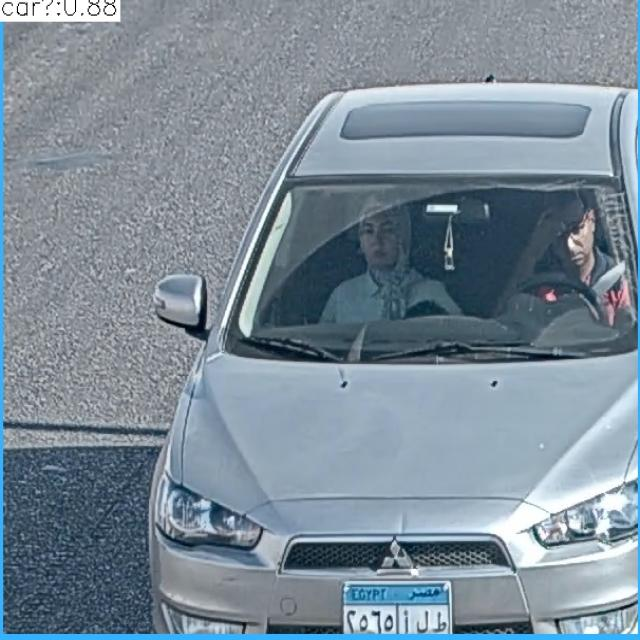windshield: (235, 177, 638, 351)
